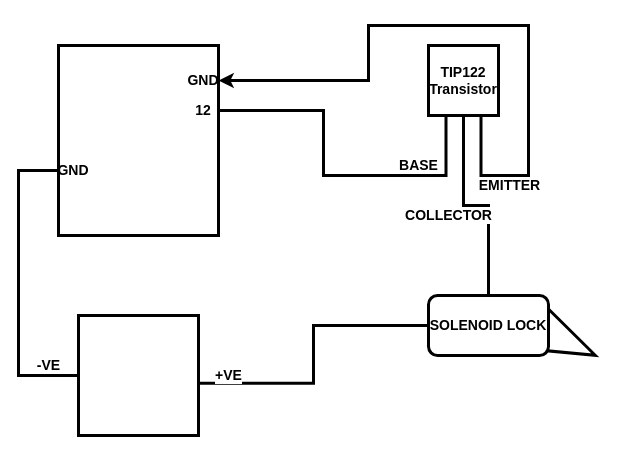
The diagram is 625 pixels wide and 454 high, and some of its shapes have lost their labels. The shapes that lost their labels are listed below. From the top down, each one's box as (x1, y1, x2, y2) in pixels, then its label:
(56, 44, 220, 236): ARDUINO UNO
(76, 314, 200, 436): 12V Lithium Ion Batteries
